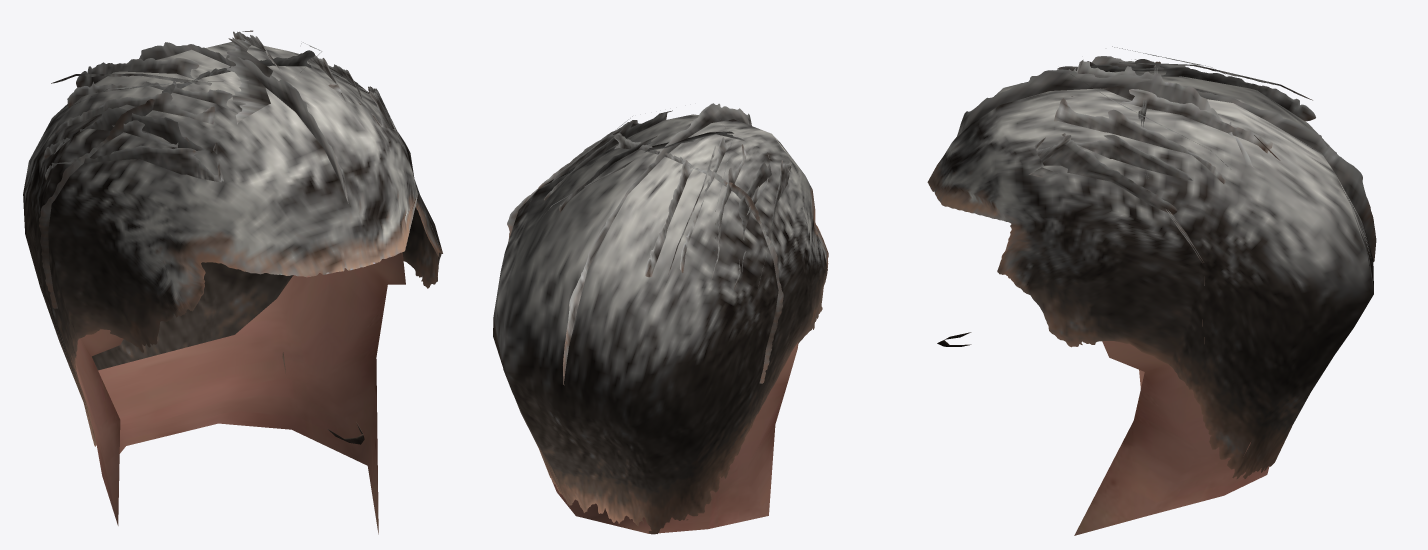
Rendered from deu-wirtz.glb.
3 views of the same model, side by side, from view 1: azimuth 30°, elevation 25°; view 2: azimuth 150°, elevation 25°; view 3: azimuth 270°, elevation 25° (orthographic). The views are drawn at different scales.
Parts seen in each view (by area): view 1: hair; view 2: hair; view 3: hair.
Part boxes in pixels (x1,y1,x2,y2): hair: [23, 30, 442, 534]; hair: [493, 103, 828, 534]; hair: [927, 46, 1376, 535].
Size of the model in its own units: 0.1845 by 0.2399 by 0.2495.
Materials: 2 (2 with a texture image).
